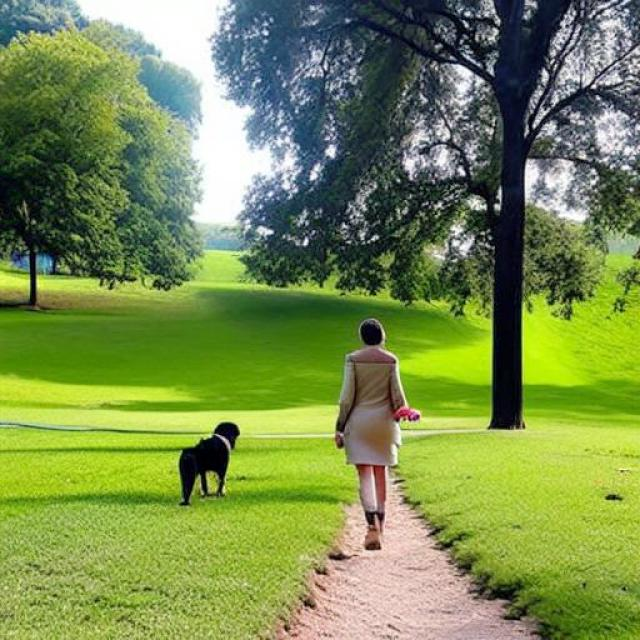Unleashed_Dog: (178, 407, 394, 507)
